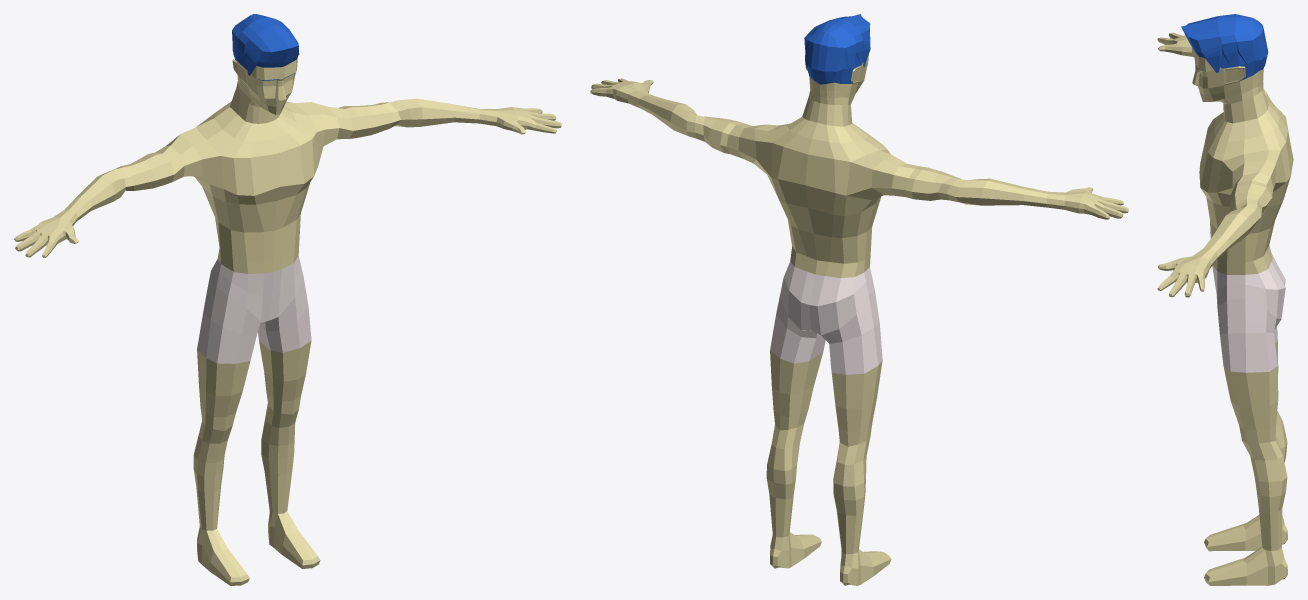
3 renders of one model, left to right at view 1: azimuth 30°, elevation 25°; view 2: azimuth 150°, elevation 25°; view 3: azimuth 270°, elevation 25°, orthographic.
Parts seen in each view (by area): view 1: CharacterModel.001_Cube.002; view 2: CharacterModel.001_Cube.002; view 3: CharacterModel.001_Cube.002.
Part boxes in pixels (x1,y1,x2,y2): CharacterModel.001_Cube.002: (14,14,561,585); CharacterModel.001_Cube.002: (590,14,1128,585); CharacterModel.001_Cube.002: (1157,14,1293,585).
Size of the model in its own units: 7.02 by 6.81 by 1.54.
